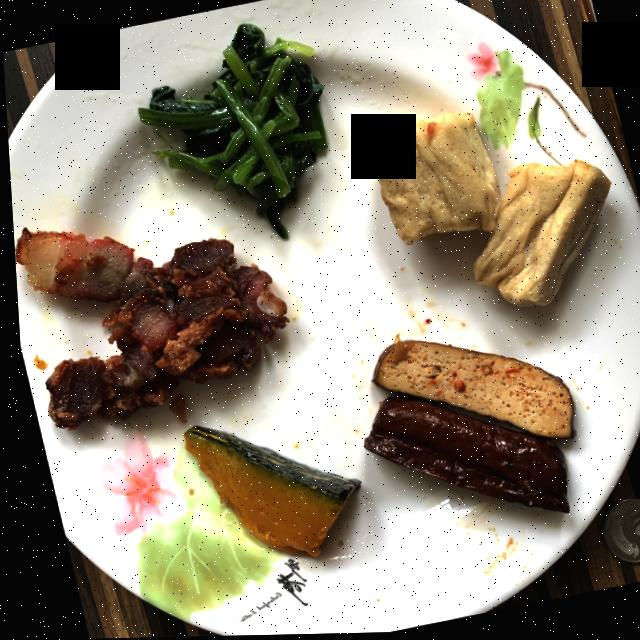coin: (596, 501, 640, 565)
creamy tofu -without sauce-: (369, 114, 607, 308)
firm tofu: (358, 340, 568, 515)
mustard greens: (136, 24, 324, 239)
pumpkin: (178, 426, 354, 557)
red grilled pork: (12, 230, 283, 428)
